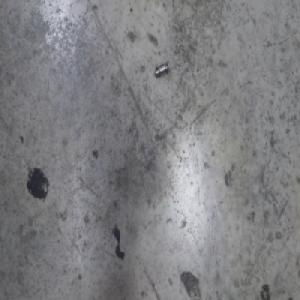Bolt: (154, 61, 169, 80)
